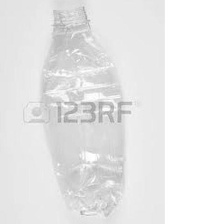bottle: (36, 4, 133, 217)
